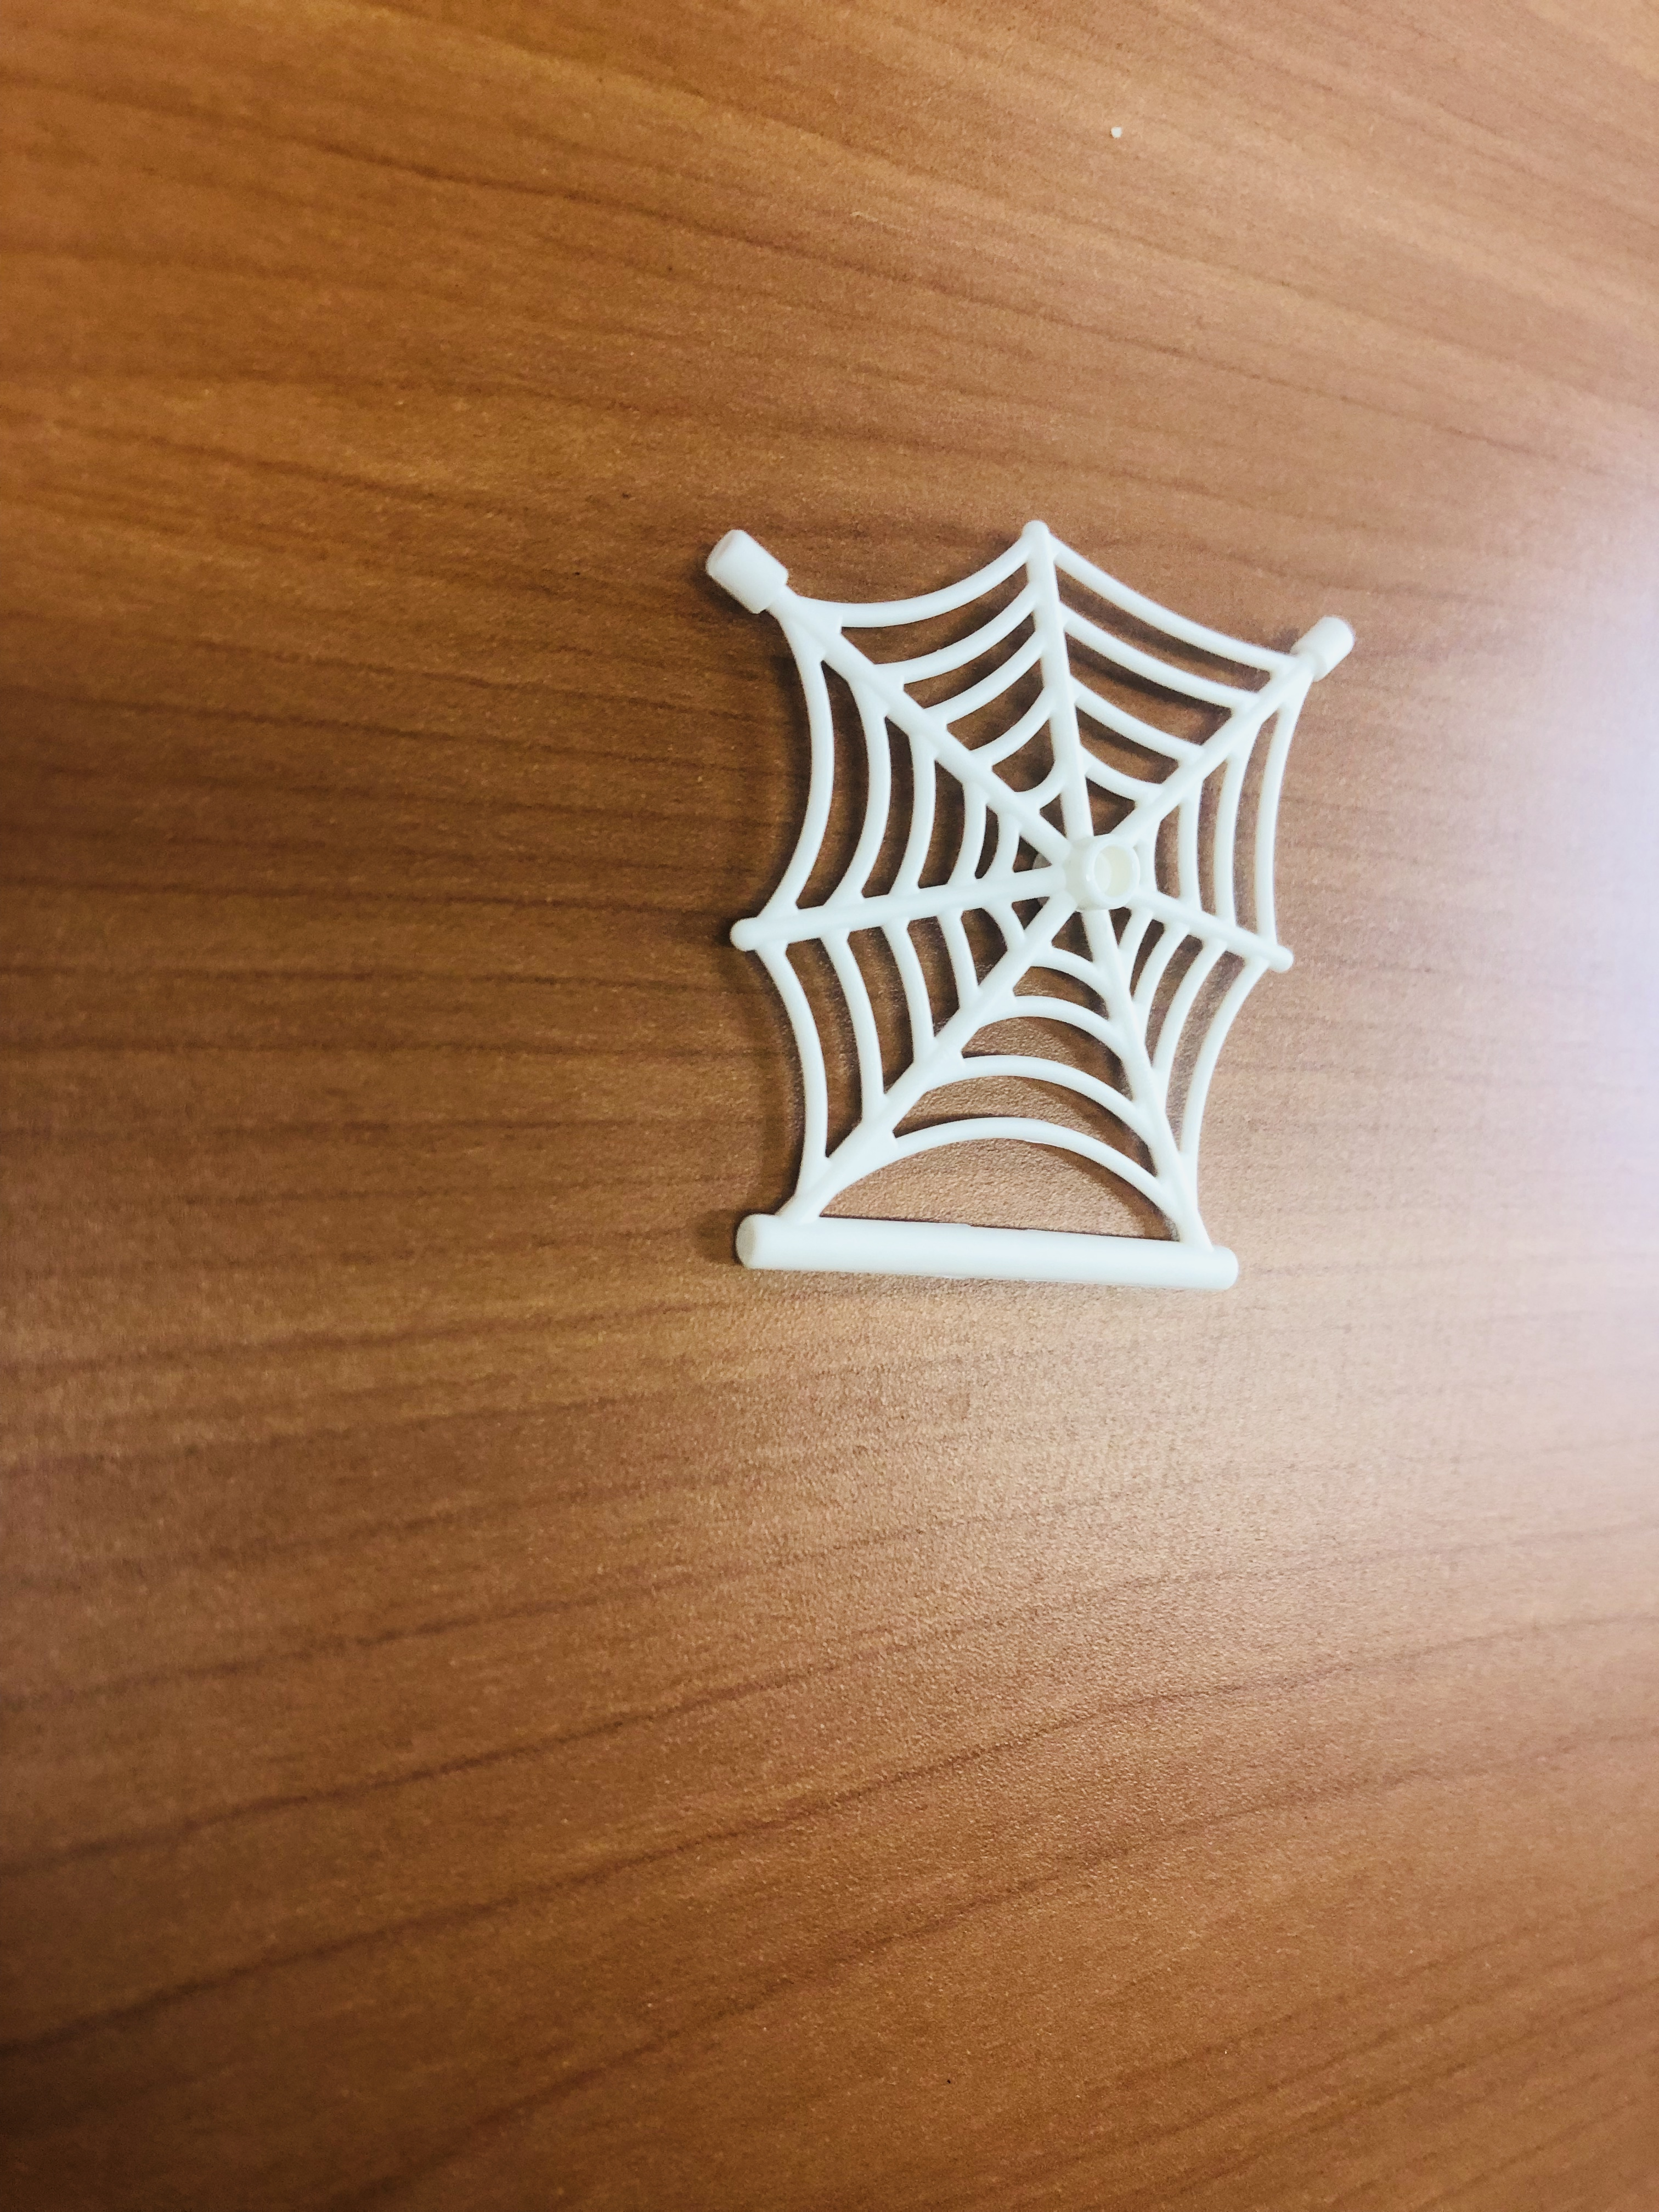web: (701, 525, 1358, 1292)
